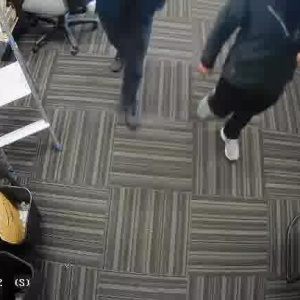person: (201, 0, 300, 155), (92, 0, 162, 139)
